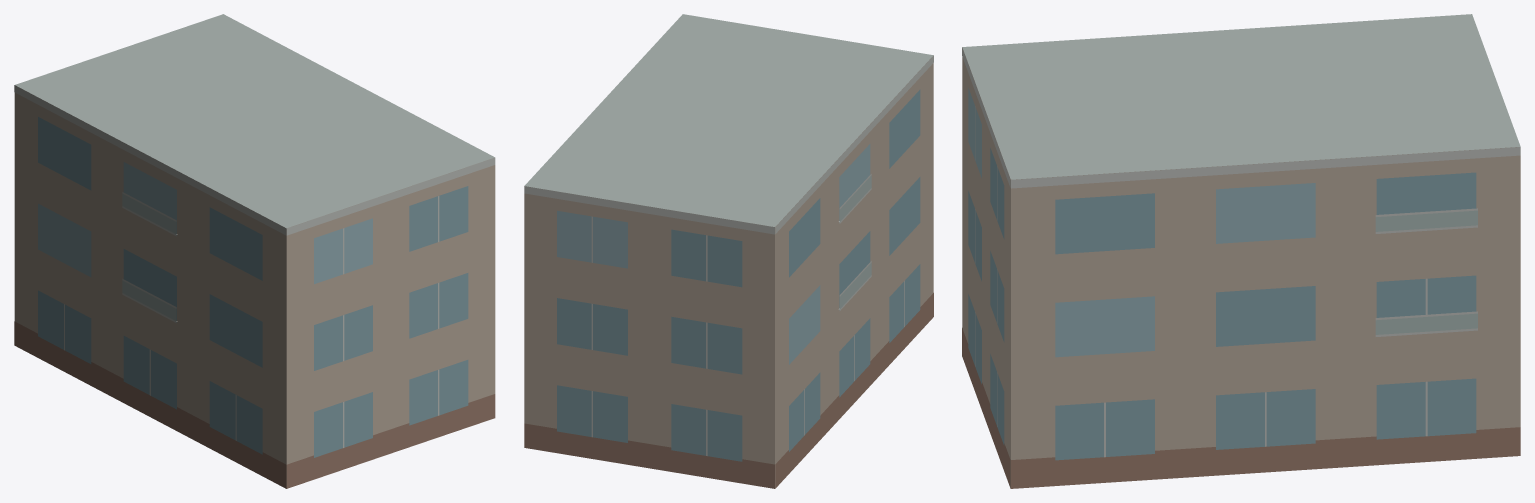
The model's file is survey-upis-32831935.glb.
3 renders of one model, left to right at view 1: azimuth 30°, elevation 25°; view 2: azimuth 150°, elevation 25°; view 3: azimuth 270°, elevation 25°, orthographic. The views are drawn at different scales.
Parts seen in each view (by area): view 1: survey-upis-32831935.tmp; view 2: survey-upis-32831935.tmp; view 3: survey-upis-32831935.tmp.
Part boxes in pixels (box(x1,y1,x2,y2)): survey-upis-32831935.tmp: box(14, 14, 495, 488); survey-upis-32831935.tmp: box(524, 14, 933, 488); survey-upis-32831935.tmp: box(962, 14, 1520, 488).
Bounding box in the file's own units: 9.9 × 8.6 × 14.09.
